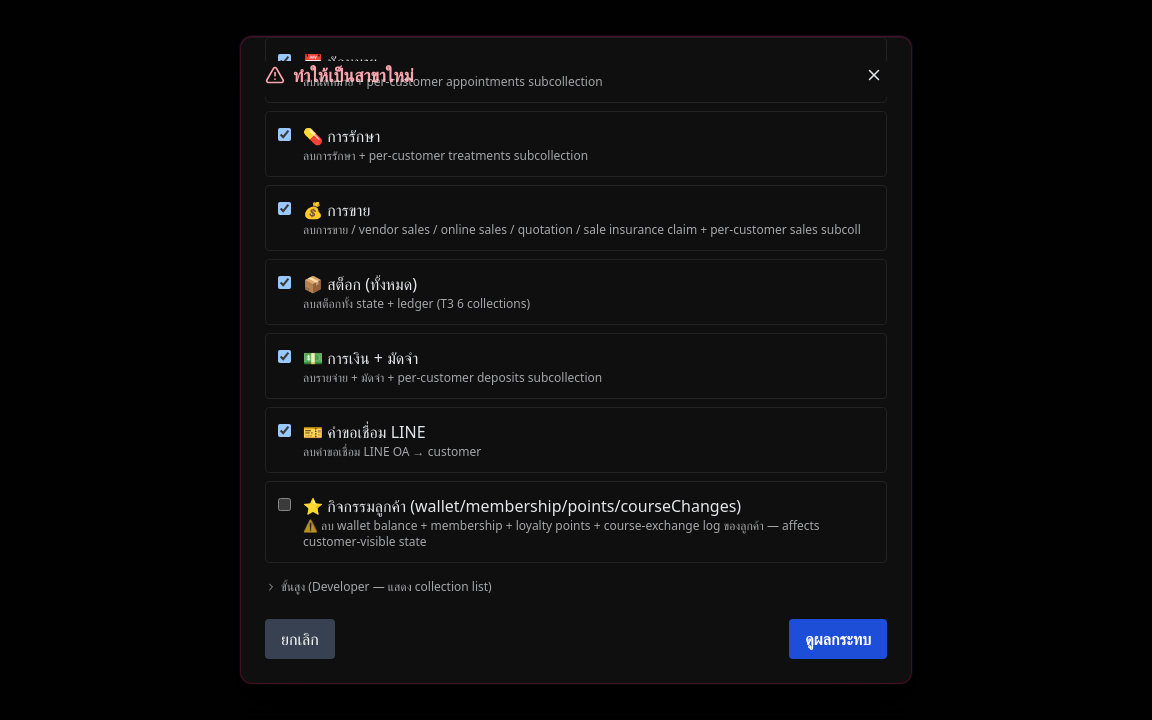
Scenario: F1 MakeFreshModal — Rule I full-flow simulate › F1.3 — preview flow displays per-bucket counts from dryRun response
(page scrolled)
Click the button with test id "preview-btn": coordinates (838, 639) [789, 619, 887, 659]
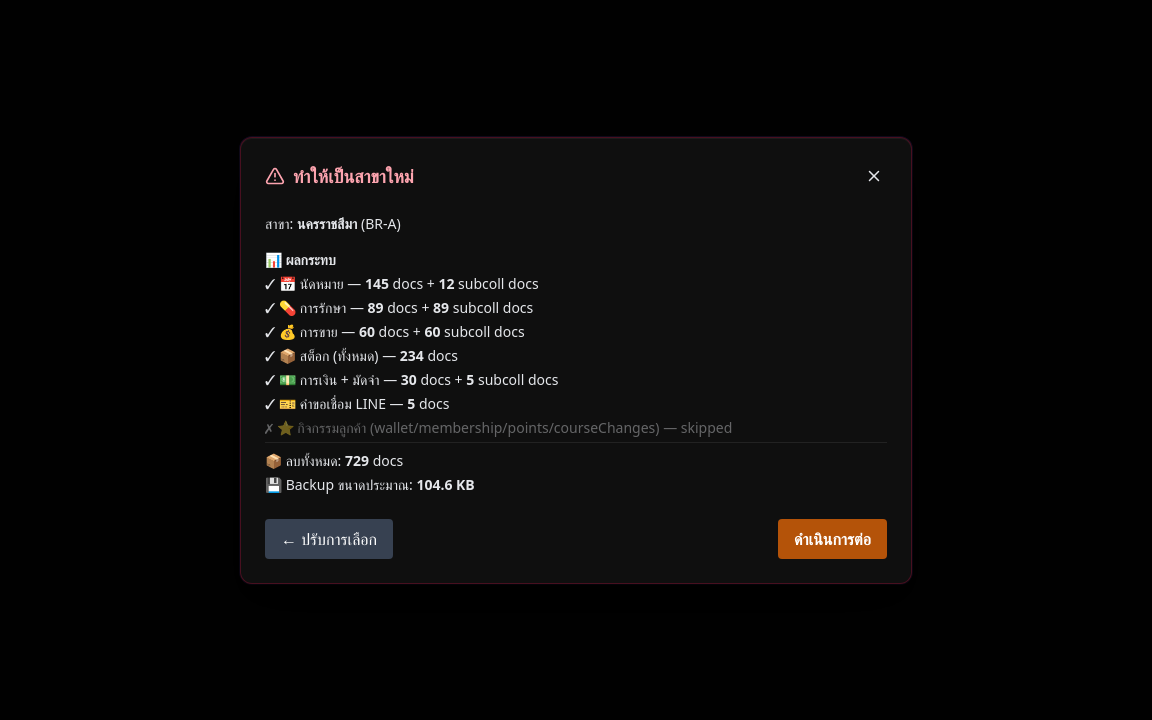
Now the element with test id "impact-panel" is shown, box [265, 250, 887, 494]
Now the text "145" is shown, box [365, 274, 389, 292]
Now the text "729" is shown, box [345, 450, 369, 470]
